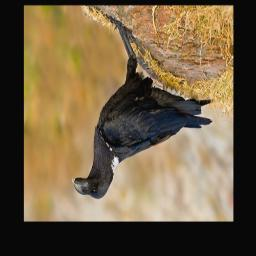Crow: (71, 15, 213, 199)
